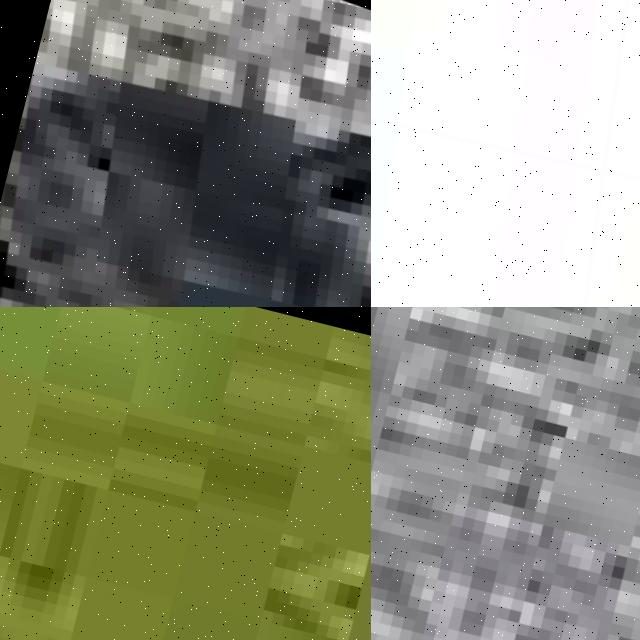0: (0, 0, 371, 307)
drone: (371, 0, 640, 307)
